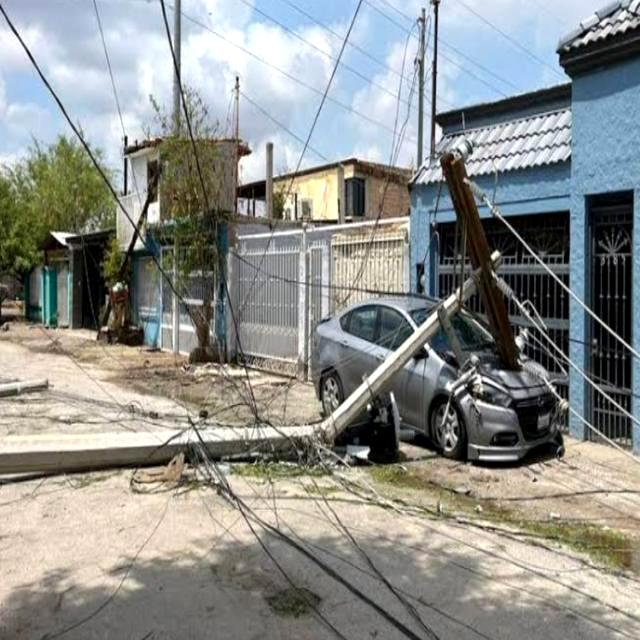Broken Pole: (0, 134, 547, 476)
